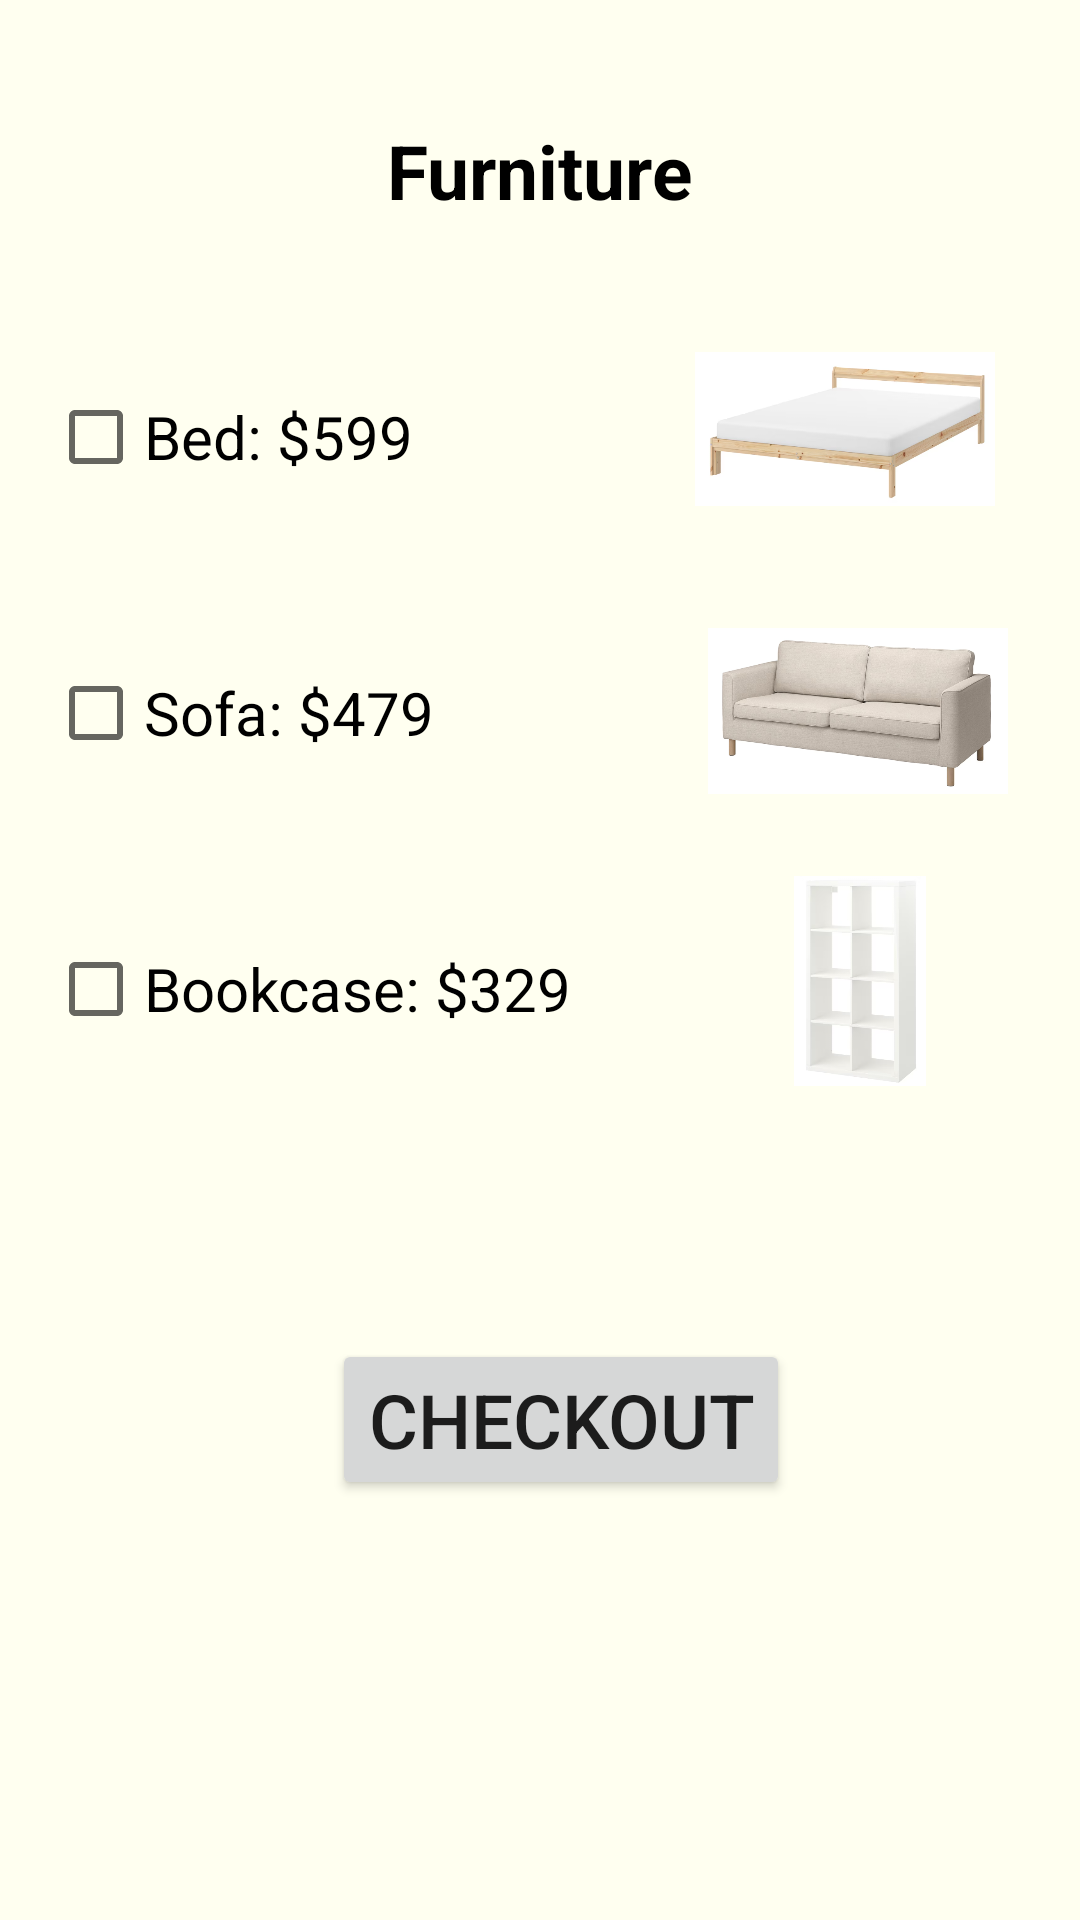

Icon click points for this 1080px×1920px phone screenshot, format point (x, y):
furniture bookcase: point (860, 981)
furniture sofa: point (856, 713)
